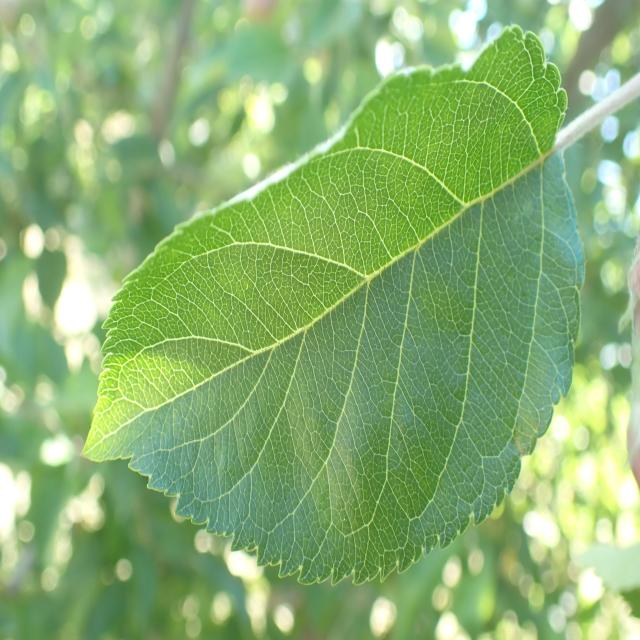healthy: (81, 24, 584, 588)
